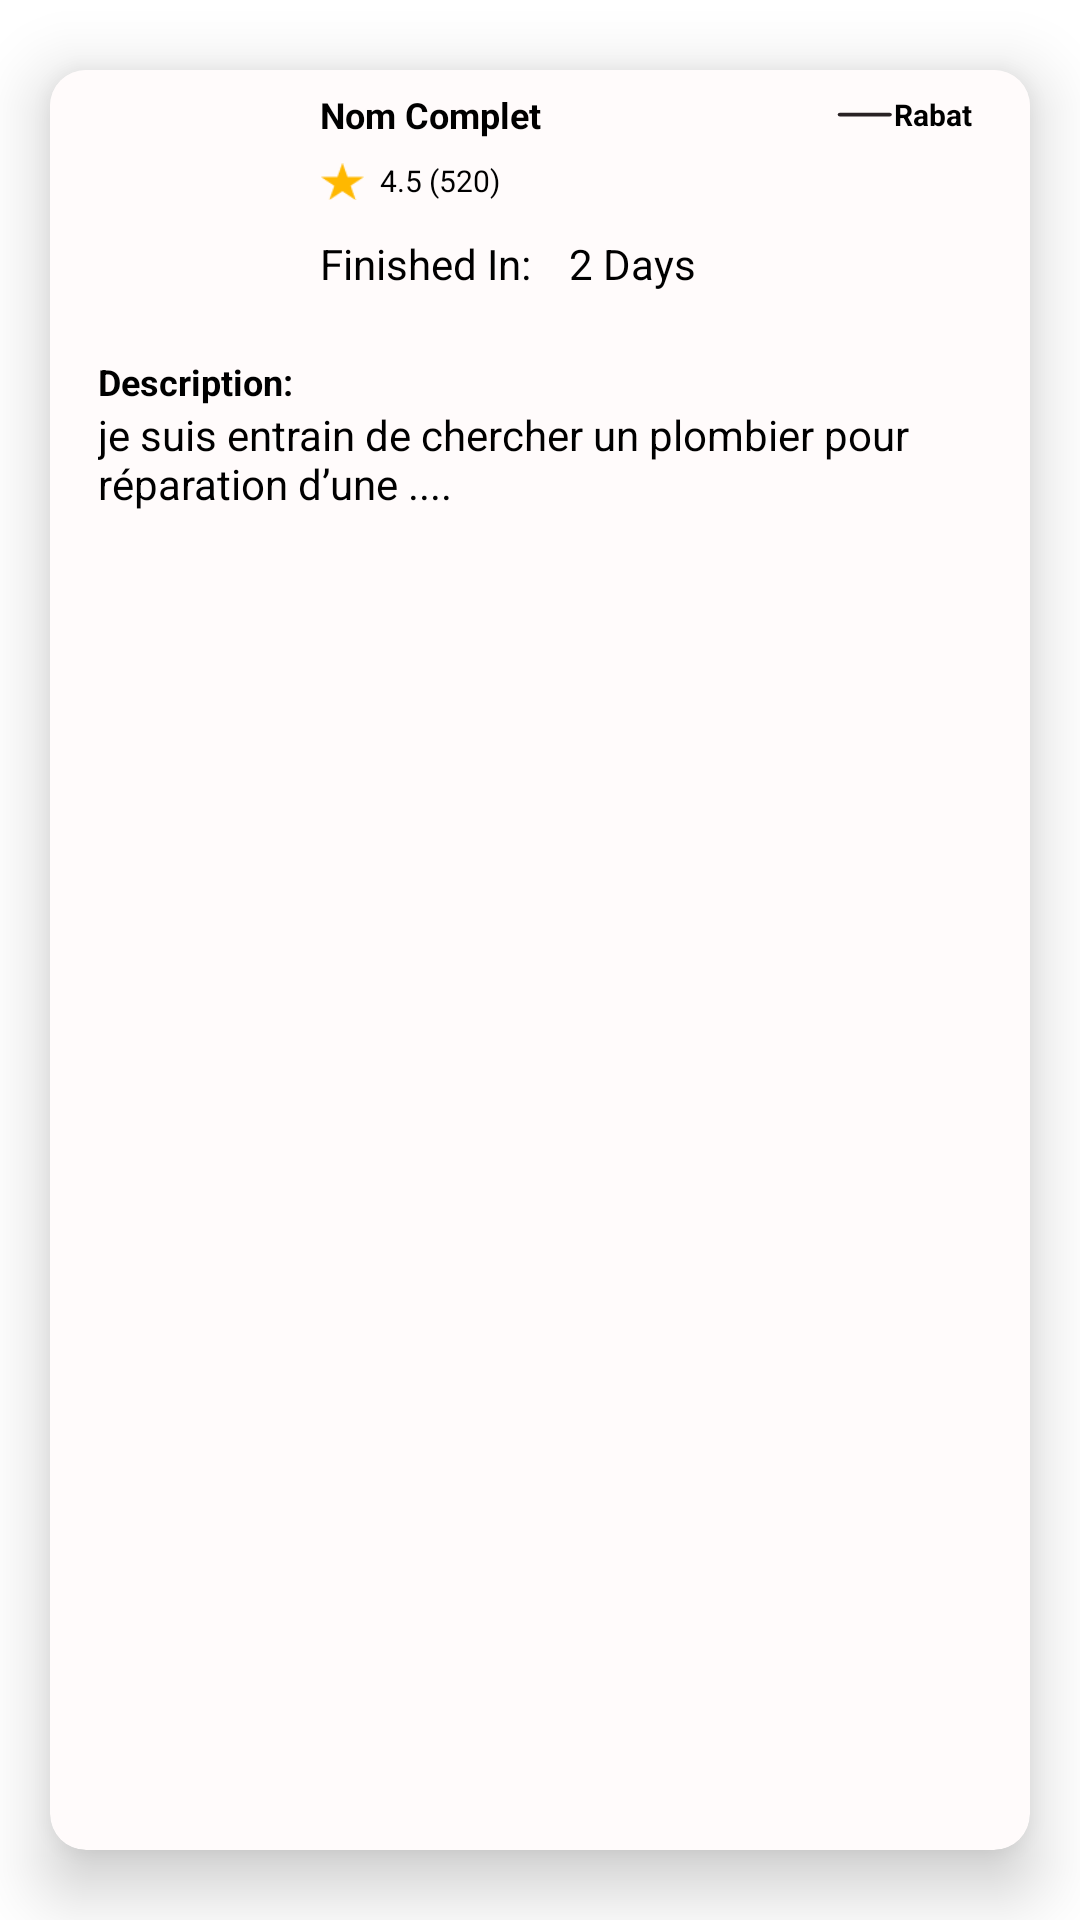

Named icons in this screenshot (1080*1920) and their centers, (x=x, y=y):
star: (x=342, y=181)
